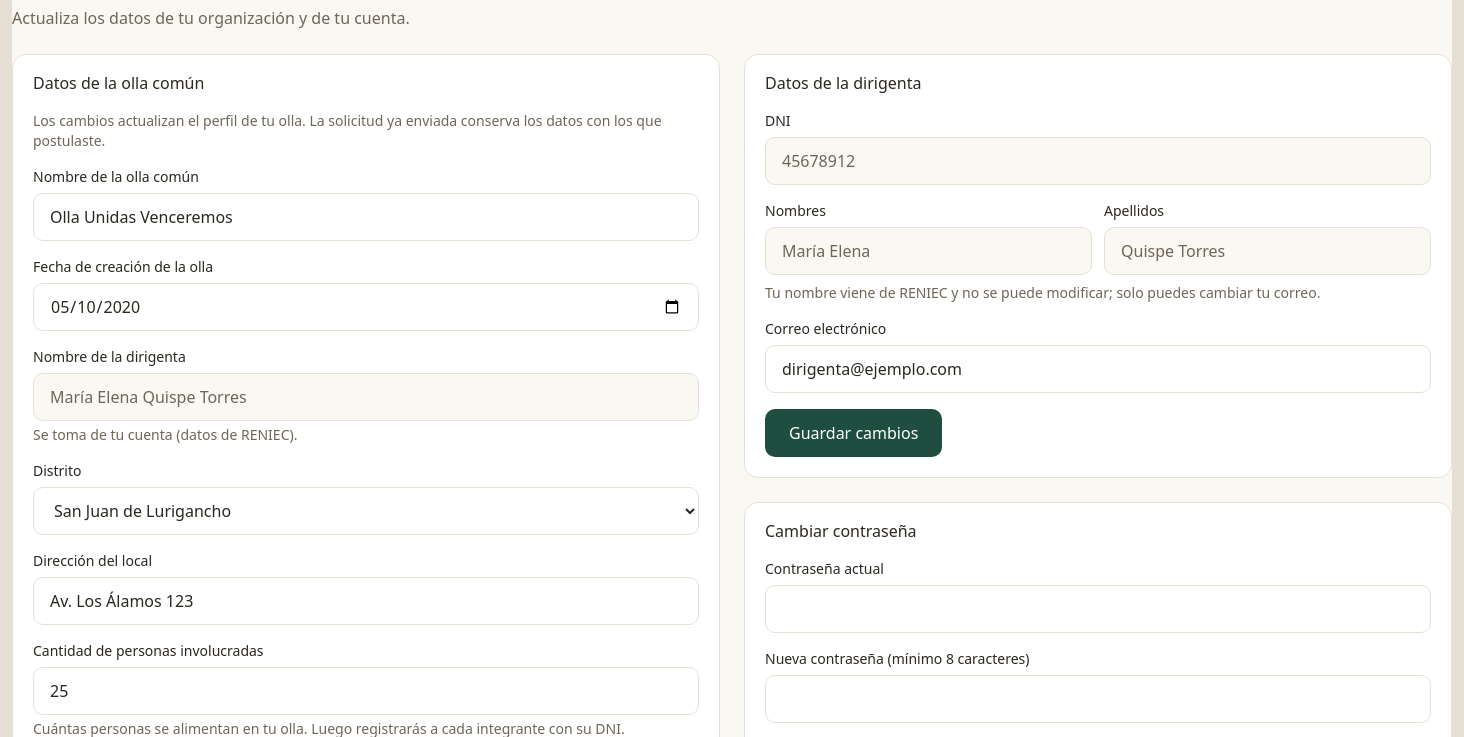
M10 · Perfil (PerfilPage) › Prueba 2 (error): si el cambio de contraseña falla se muestra el mensaje de la API
Type "clave-vieja-1" into the password field labelled "Contraseña actual" at (1098, 609), box [765,585,1431,633]
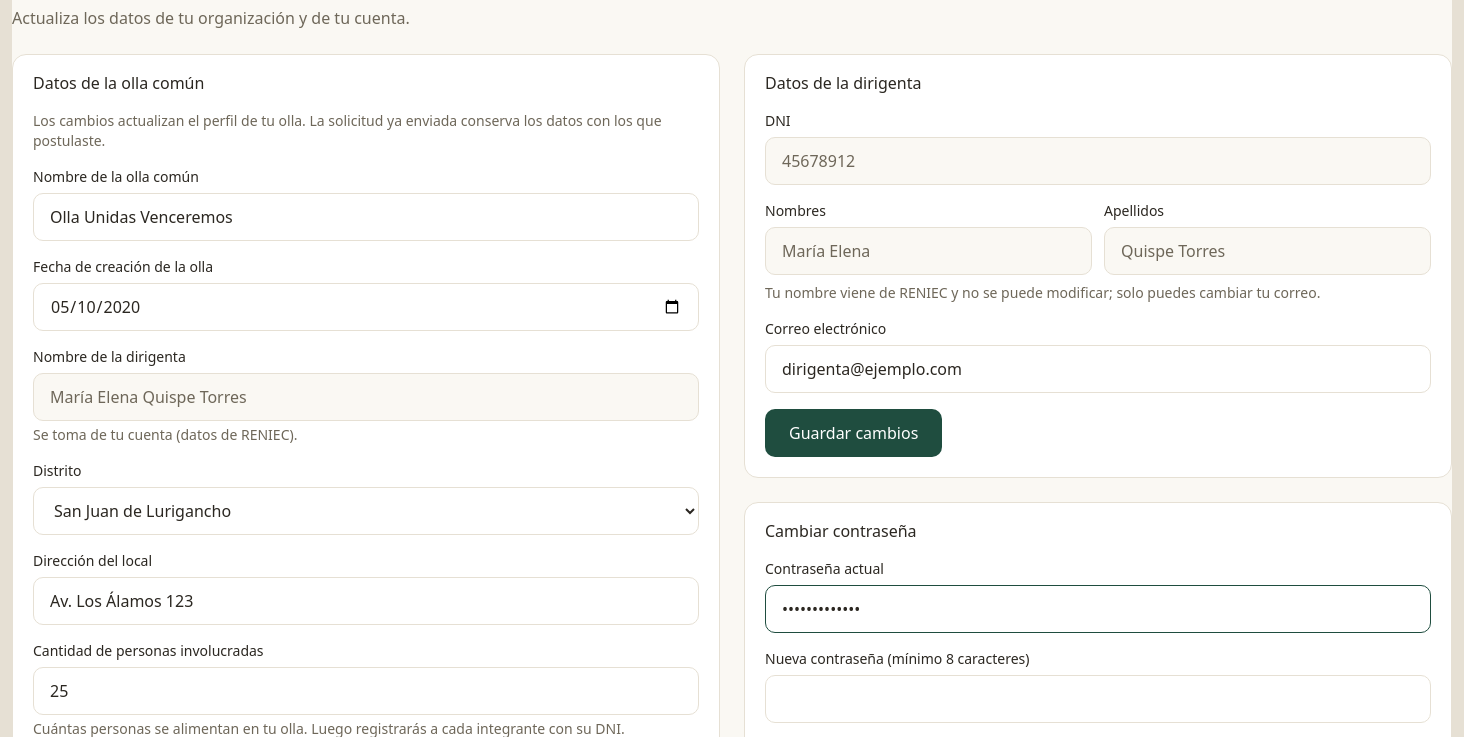
Type "NuevaClave123" into the password field labelled "Nueva contraseña (mínimo 8 caracteres)" at (1098, 699), box [765,675,1431,723]
(page scrolled)
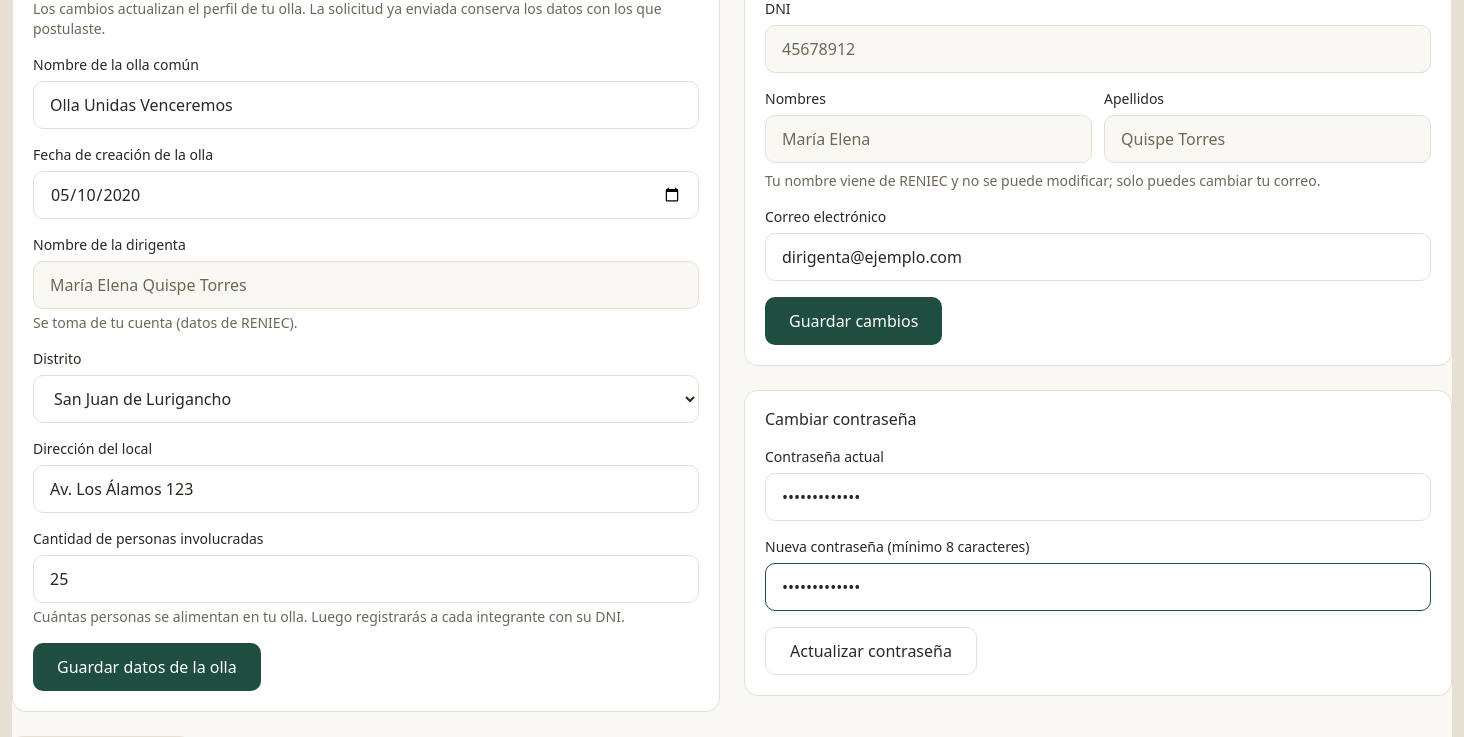
Click the button "Actualizar contraseña" at (871, 651), box [765,627,977,675]
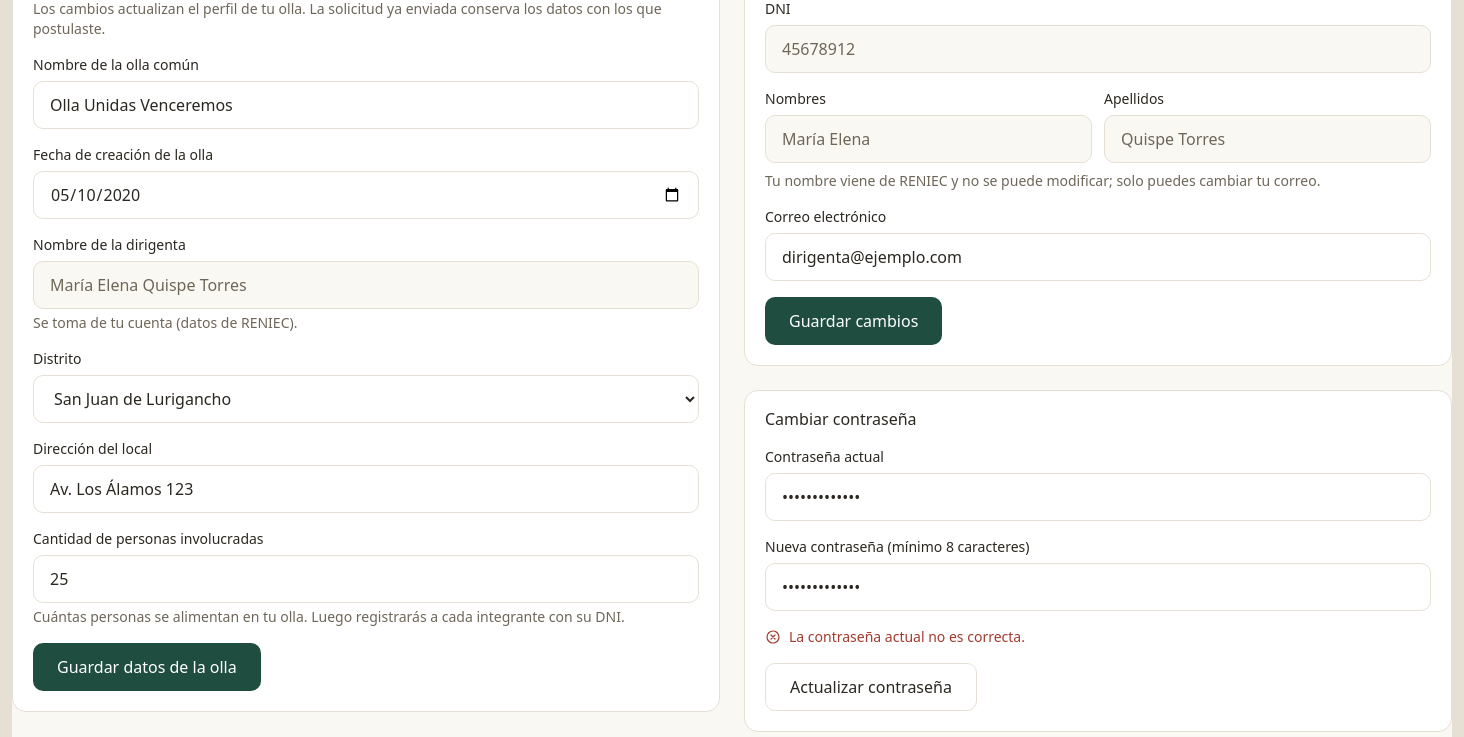
Expected: the message reads "La contraseña actual no es correcta.", [789,627,1025,646]
